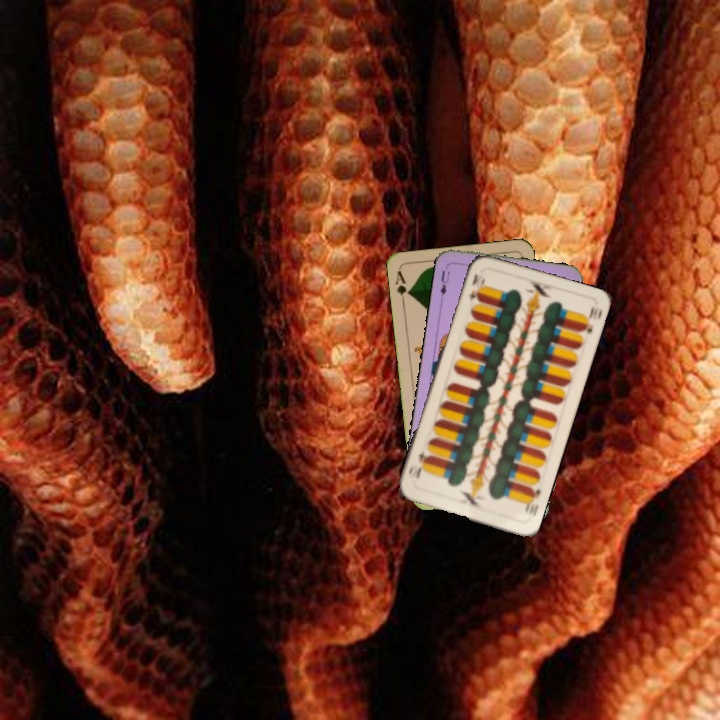E10: (521, 483, 544, 519), (465, 270, 487, 303)
EU: (436, 266, 452, 299)
GA: (391, 267, 413, 307)
